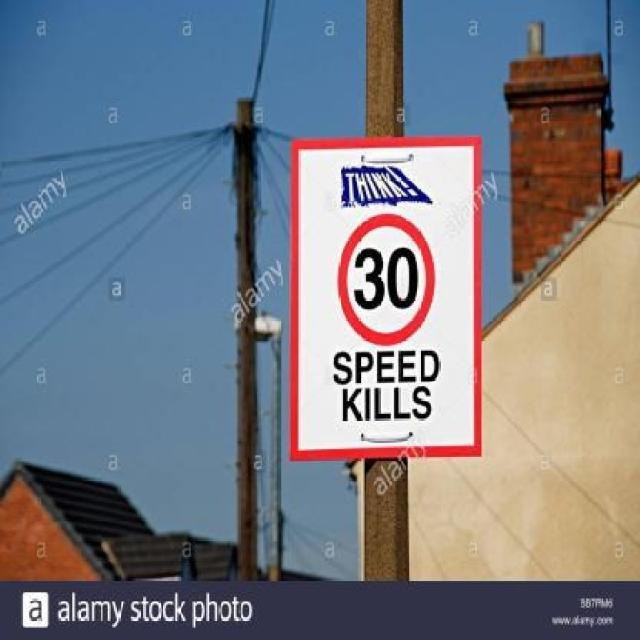forb_speed_over_30: (338, 215, 434, 342)
